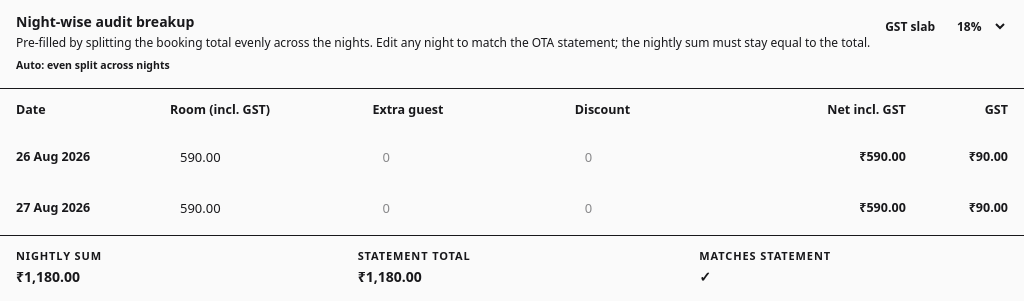
it: OfflineBookingGrid › keeps a typed nightly amount after the parent rerenders
Replace the text in the field named "Room amount for 26 Aug 2026" with "1180": (226, 157) [170,140,282,175]
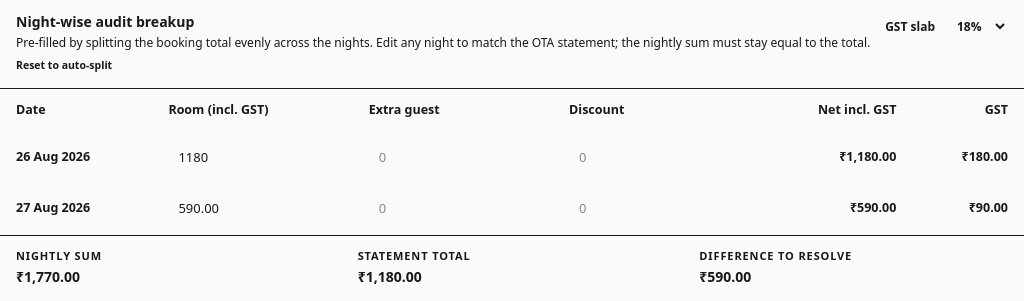
Check: the field named "Room amount for 27 Aug 2026" holds "590.00", box [168,191,280,226]
Check: the button "Reset to auto-split" is shown, box [16,58,112,74]
